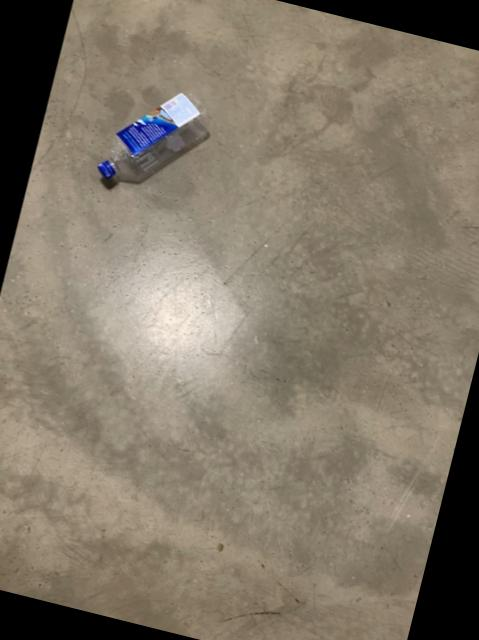plastic: (98, 95, 209, 190)
